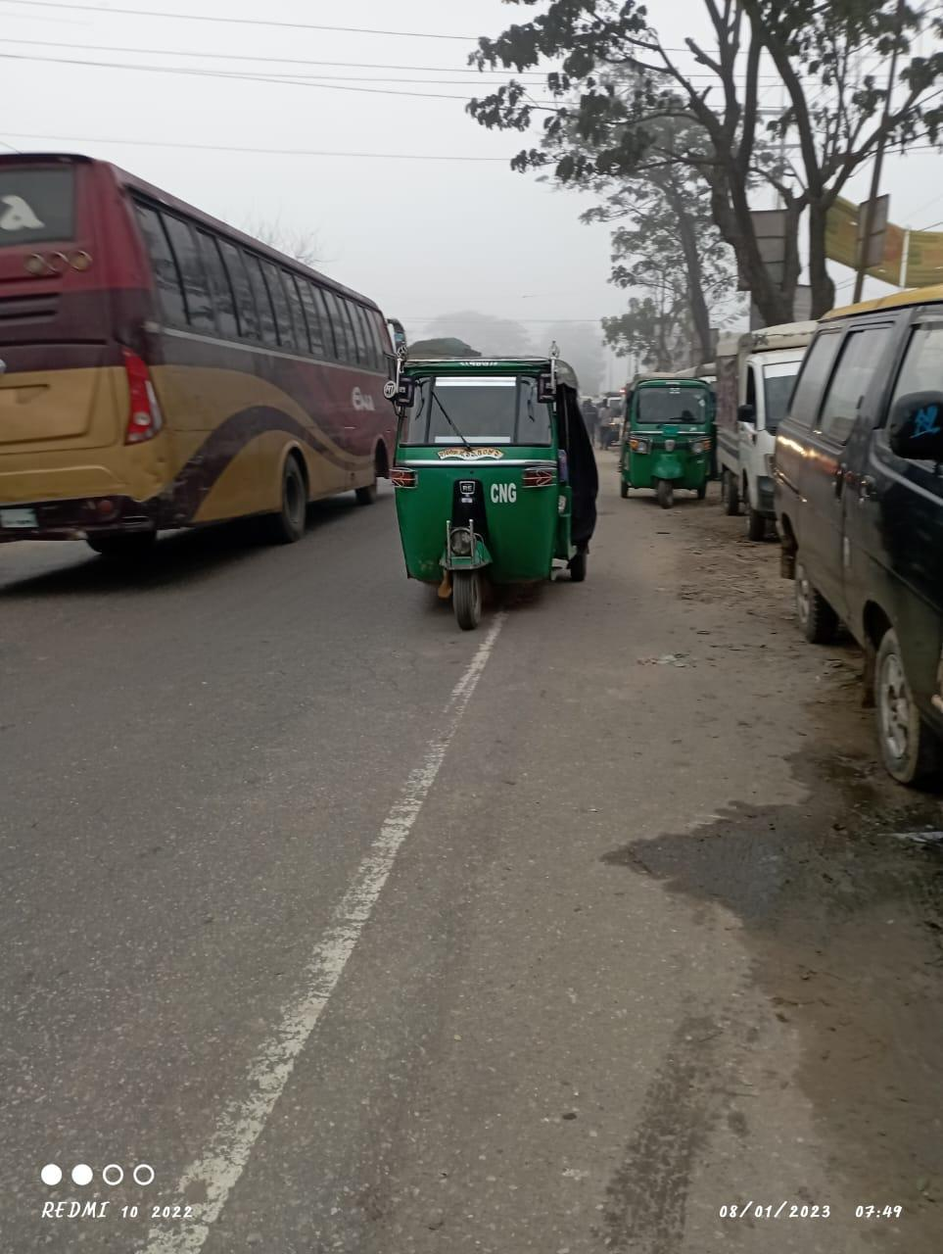Bus: (4, 142, 404, 516)
Car: (774, 279, 943, 784)
